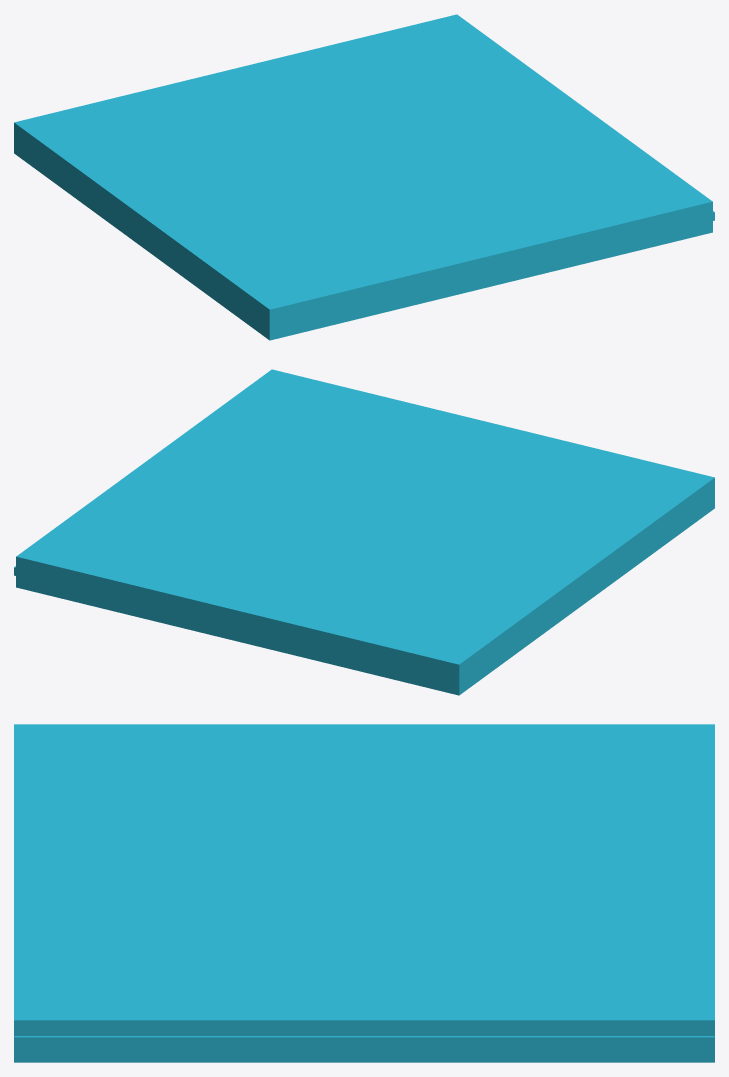
The model's file is Hopper.gltf.
3 views of the same model, one above another, from view 1: azimuth 30°, elevation 25°; view 2: azimuth 150°, elevation 25°; view 3: azimuth 270°, elevation 25° (orthographic). The views are drawn at different scales.
Parts seen in each view (by area): view 1: Hopper; view 2: Hopper; view 3: Hopper, Hopper.001.
Part boxes in pixels (x1=…): Hopper: x1=14, y1=14, x2=712, y2=340; Hopper: x1=16, y1=369, x2=714, y2=695; Hopper: x1=14, y1=724, x2=714, y2=1062; Hopper.001: x1=14, y1=1036, x2=714, y2=1048.
Size of the model in its own units: 0.5028 by 0.0334 by 0.5003.
1 material, 1 textured.
